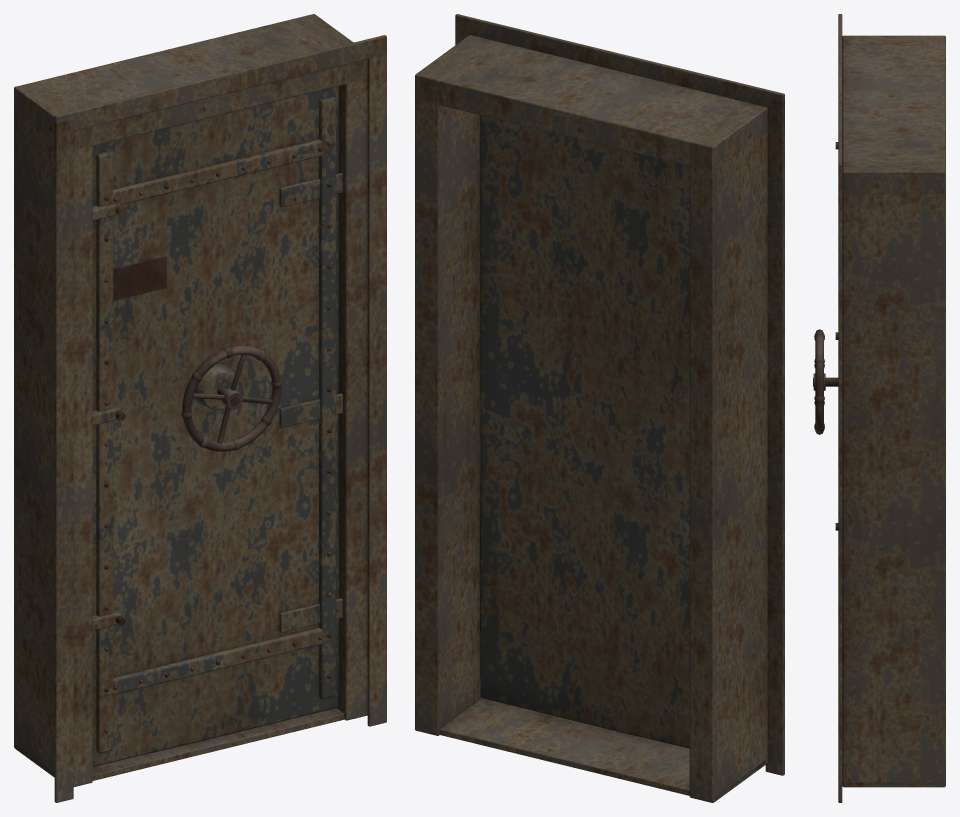
File: Door_Bunker.fbx
3 views of the same model, side by side, from view 1: azimuth 30°, elevation 25°; view 2: azimuth 150°, elevation 25°; view 3: azimuth 270°, elevation 25° (orthographic). The views are drawn at different scales.
Visible parts, largest first — view 1: Leaf, Frame; view 2: Frame, Leaf; view 3: Frame, Leaf.
Part boxes in pixels (x1,y1,x2,y2): Leaf: (92,86,342,766); Frame: (14,14,386,802); Frame: (415,14,784,802); Leaf: (479,115,689,748); Frame: (838,14,945,802); Leaf: (813,142,838,530).
Size of the model in its own units: 1.1 by 2.18 by 0.41.
